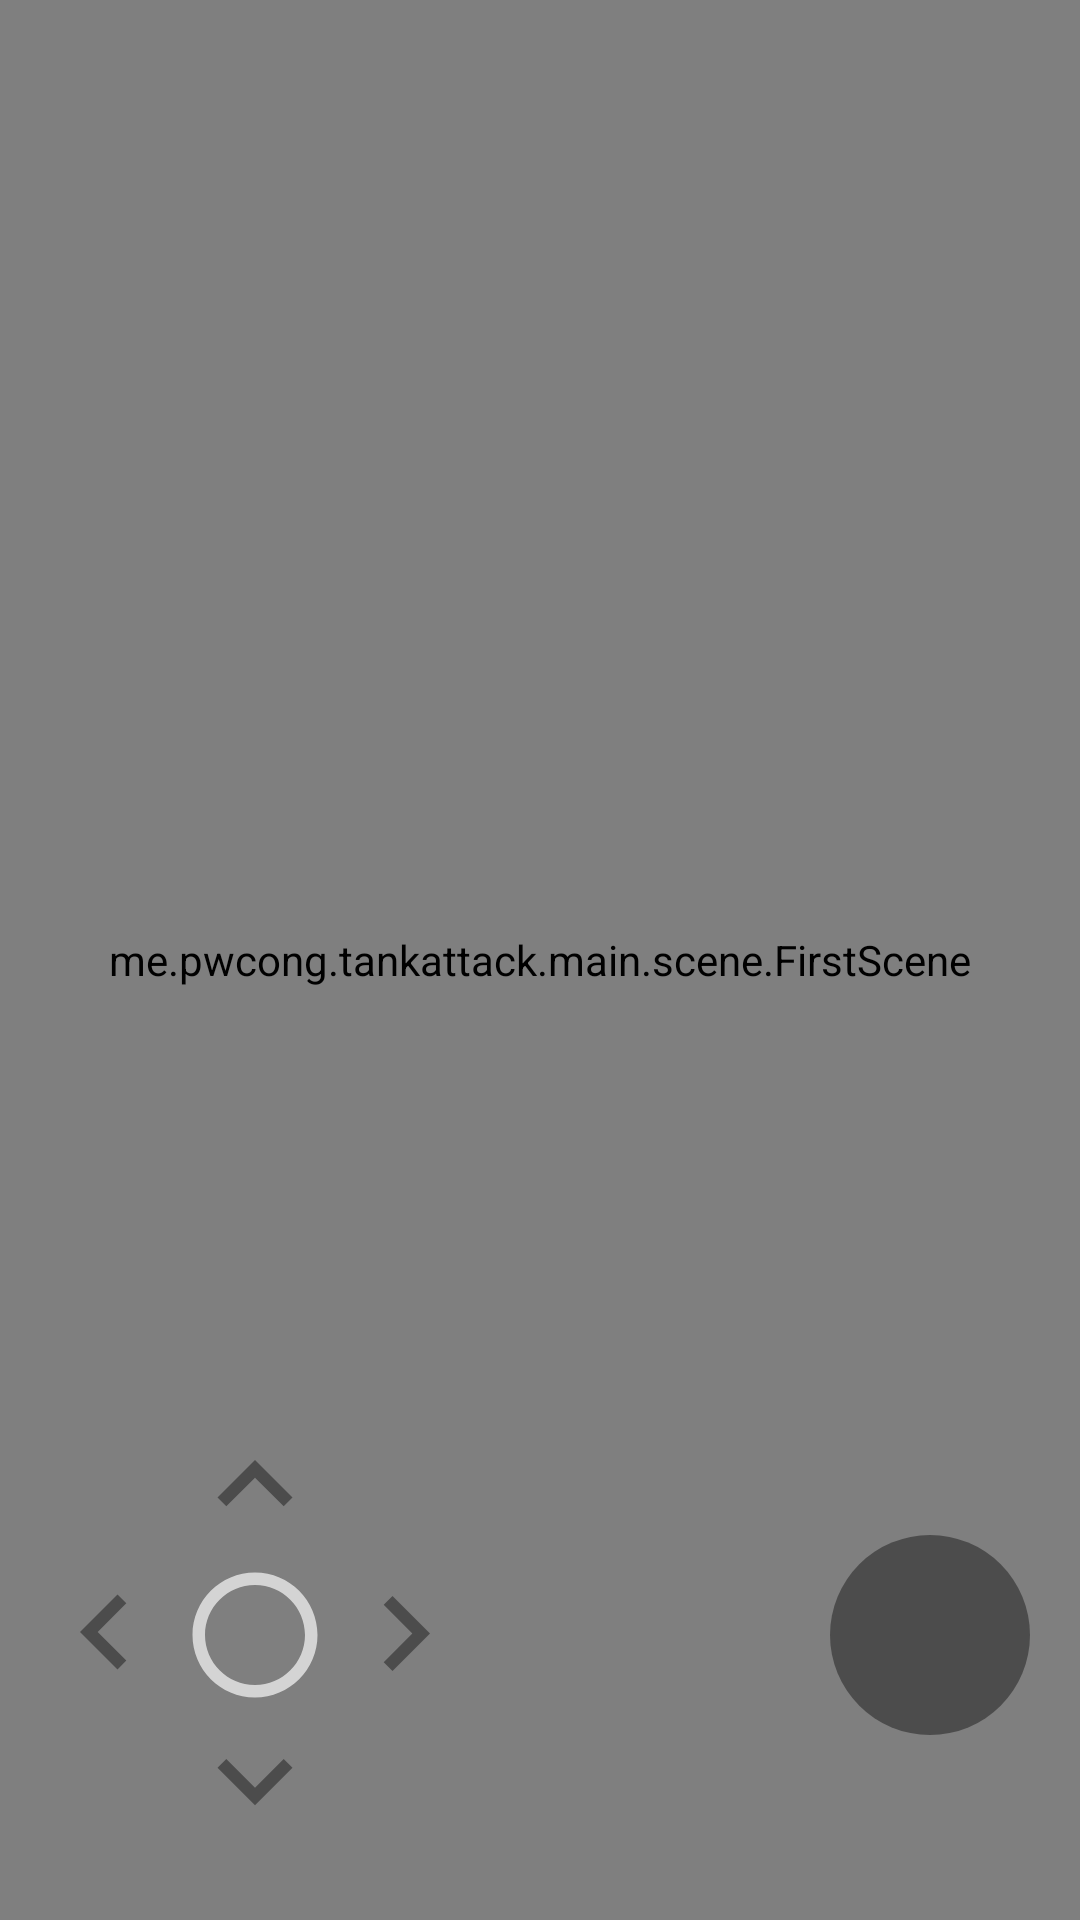

Where to tap for icons on this 1080 x 1920 app screen, as (x=x, y=y):
keyboard arrow down: (x=255, y=1782)
keyboard arrow left: (x=103, y=1632)
keyboard arrow right: (x=407, y=1633)
keyboard arrow up: (x=255, y=1483)
panorama fish eye: (x=255, y=1635)
